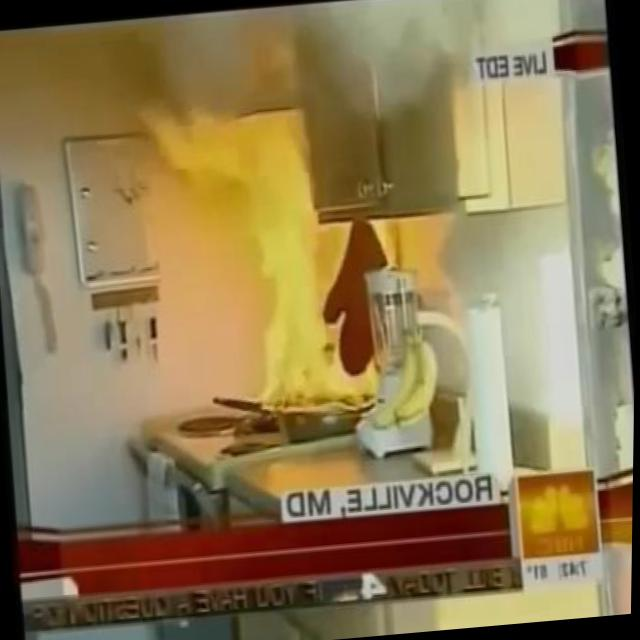fire: (138, 87, 400, 426)
